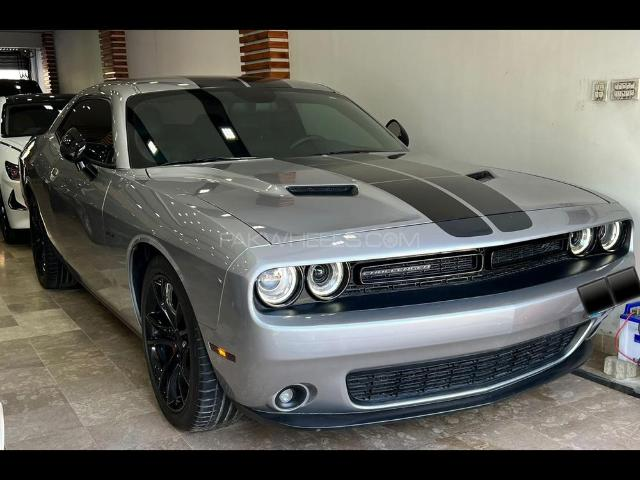dodge: (16, 74, 640, 432)
